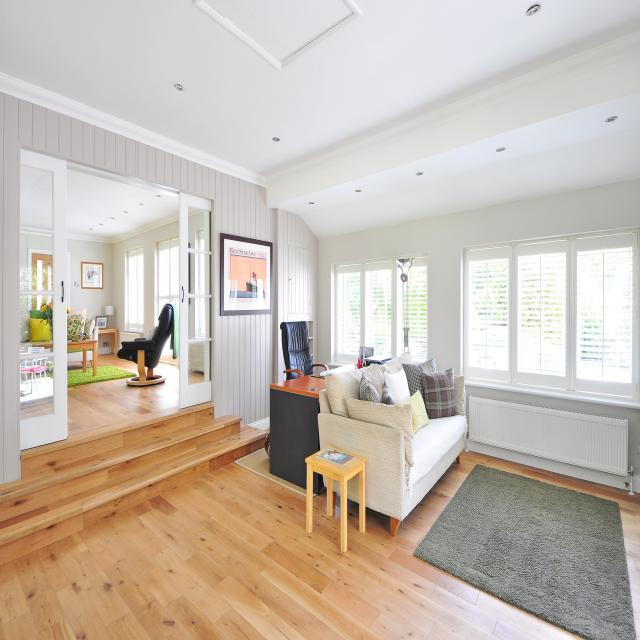floor: (0, 449, 640, 640), (20, 361, 214, 454), (97, 353, 139, 377), (67, 361, 83, 371), (87, 361, 93, 369), (91, 360, 93, 365)
wall: (0, 73, 275, 484), (266, 32, 640, 206), (318, 177, 640, 375), (465, 385, 640, 494), (110, 220, 179, 348), (466, 438, 631, 491), (275, 208, 318, 383), (220, 233, 275, 316), (67, 238, 113, 322), (20, 229, 53, 268), (75, 262, 103, 289), (28, 248, 53, 268), (32, 253, 53, 268)
